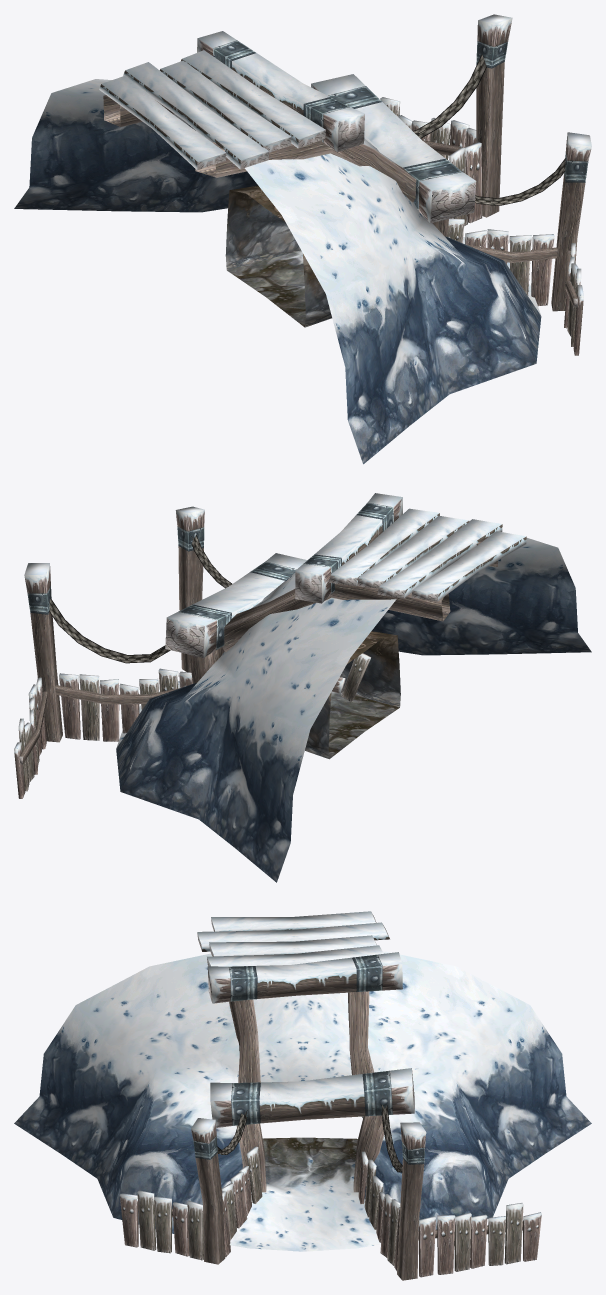
The model's file is entrance2.dae.
The picture shows the model from 3 angles, top to bottom: view 1: azimuth 30°, elevation 25°; view 2: azimuth 150°, elevation 25°; view 3: azimuth 270°, elevation 25°; orthographic projection. The views are drawn at different scales.
Parts seen in each view (by area): view 1: enterance0, enterance1, enterance6, enterance2, enterance3, enterance5; view 2: enterance0, enterance1, enterance6, enterance2, enterance3, enterance5; view 3: enterance0, enterance2, enterance1, enterance6, enterance5.
Boxes of the visible parts, box(x1,y1,x2,y2) form: enterance0: box(14, 93, 541, 464); enterance1: box(103, 18, 591, 355); enterance6: box(99, 31, 476, 223); enterance2: box(52, 14, 591, 314); enterance3: box(225, 190, 331, 327); enterance5: box(227, 250, 305, 327); enterance0: box(116, 547, 591, 882); enterance1: box(14, 497, 497, 798); enterance6: box(165, 493, 526, 657); enterance2: box(14, 506, 557, 748); enterance3: box(305, 635, 400, 758); enterance5: box(328, 691, 399, 758); enterance0: box(14, 1005, 591, 1233); enterance2: box(76, 951, 541, 1251); enterance1: box(119, 954, 541, 1280); enterance6: box(197, 911, 414, 1123); enterance5: box(251, 1137, 358, 1198).
Size of the model in its own units: 43.85 by 61.09 by 24.04.
